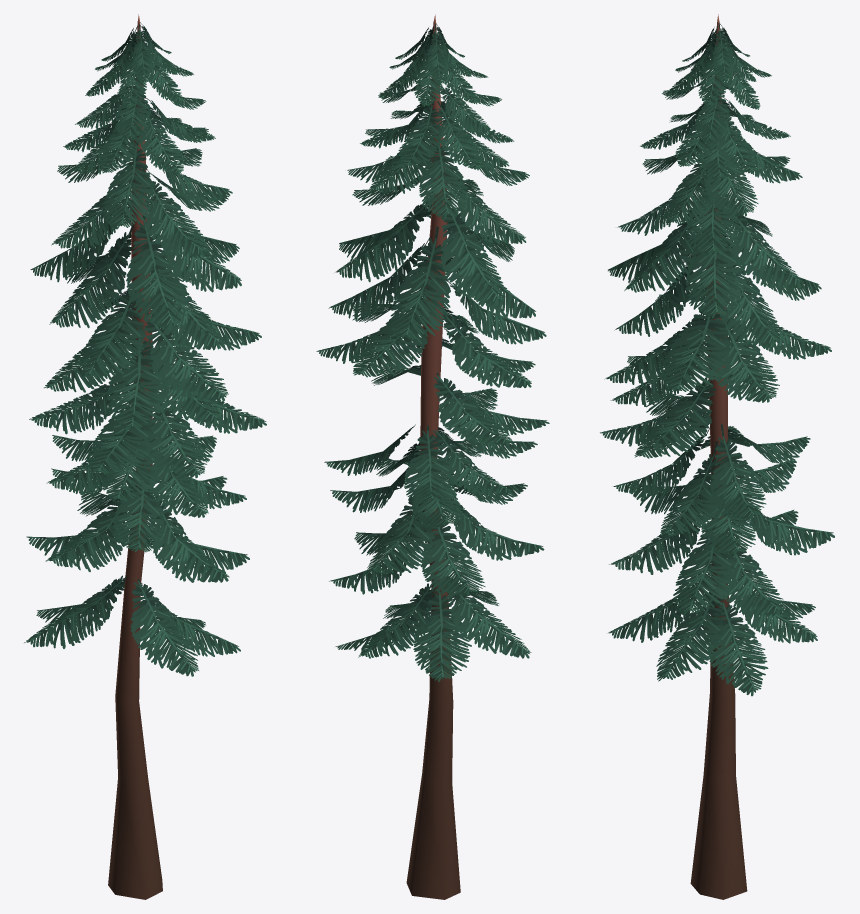
The model's file is Pine_Tree_2B.fbx.
The picture shows the model from 3 angles, left to right: view 1: azimuth 30°, elevation 25°; view 2: azimuth 150°, elevation 25°; view 3: azimuth 270°, elevation 25°; orthographic projection.
Visible parts, largest first — view 1: Pine_Tree_2B; view 2: Pine_Tree_2B; view 3: Pine_Tree_2B.
Part boxes in pixels (x1=…): Pine_Tree_2B: x1=24, y1=14, x2=266, y2=899; Pine_Tree_2B: x1=316, y1=14, x2=549, y2=899; Pine_Tree_2B: x1=600, y1=14, x2=834, y2=899.
Bounding box in the file's own units: 254 × 948 × 253.
